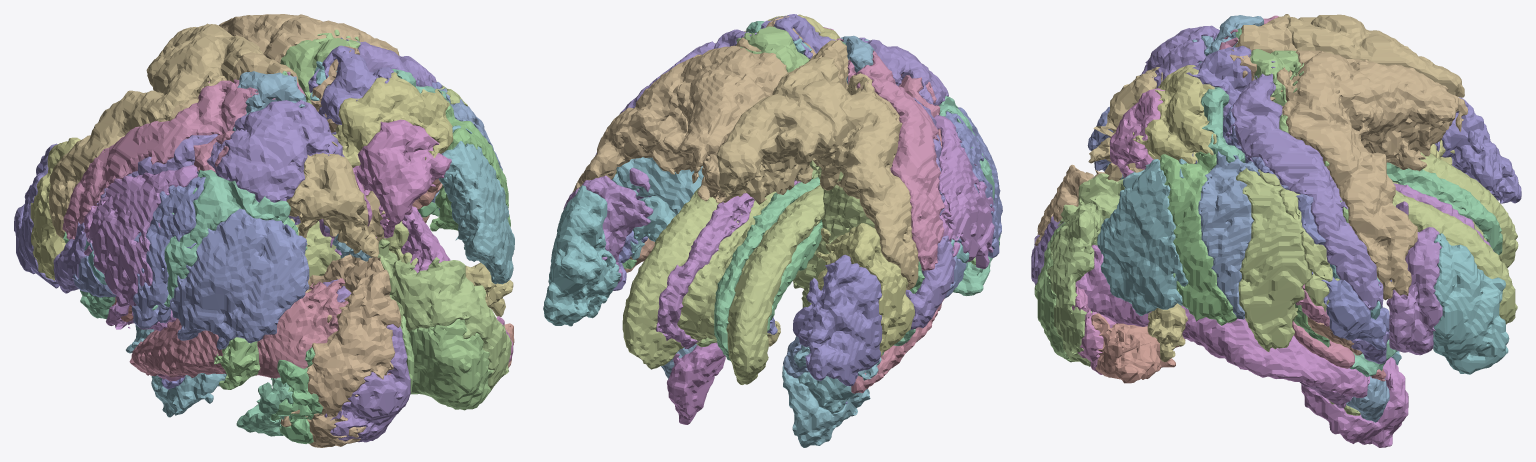
The model's file is juelich.glb.
The picture shows the model from 3 angles, left to right: view 1: azimuth 30°, elevation 25°; view 2: azimuth 150°, elevation 25°; view 3: azimuth 270°, elevation 25°; orthographic projection. The views are drawn at different scales.
Visible parts, largest first — view 1: GM Inferior parietal lobule PGp L, GM Visual cortex V2 BA18 L, GM Premotor cortex BA6 L, GM Superior parietal lobule 7A L, WM Optic radiation L, GM Primary somatosensory cortex BA1 L, GM Visual cortex V2 BA18 R, GM Inferior parietal lobule PF L, GM Inferior parietal lobule PGp R, GM Superior parietal lobule 7P R, GM Visual cortex V1 BA17 R, GM Superior parietal lobule 7A R (+29 smaller); view 2: GM Premotor cortex BA6 L, WM Callosal body, GM Premotor cortex BA6 R, GM Broca's area BA45 L, GM Broca's area BA45 R, GM Primary somatosensory cortex BA1 L, GM Inferior parietal lobule PF L, GM Broca's area BA44 L, WM Cingulum R, WM Cingulum L, GM Broca's area BA44 R, GM Hippocampus entorhinal cortex R (+20 smaller); view 3: GM Premotor cortex BA6 R, GM Primary somatosensory cortex BA1 R, GM Inferior parietal lobule PGp R, GM Inferior parietal lobule PF R, WM Optic radiation R, GM Broca's area BA45 R, GM Visual cortex V2 BA18 R, GM Inferior parietal lobule Pga R, WM Callosal body, GM Inferior parietal lobule PFm R, GM Premotor cortex BA6 L, GM Broca's area BA44 R (+30 smaller).
Part boxes in pixels (x1=…): GM Inferior parietal lobule PGp L: x1=170, y1=208, x2=309, y2=349; GM Visual cortex V2 BA18 L: x1=280, y1=253, x2=400, y2=447; GM Premotor cortex BA6 L: x1=49, y1=23, x2=263, y2=239; GM Superior parietal lobule 7A L: x1=207, y1=100, x2=344, y2=233; WM Optic radiation L: x1=129, y1=278, x2=390, y2=378; GM Primary somatosensory cortex BA1 L: x1=62, y1=79, x2=275, y2=239; GM Visual cortex V2 BA18 R: x1=377, y1=239, x2=511, y2=392; GM Inferior parietal lobule PF L: x1=87, y1=165, x2=197, y2=316; GM Inferior parietal lobule PGp R: x1=439, y1=125, x2=514, y2=284; GM Superior parietal lobule 7P R: x1=352, y1=119, x2=451, y2=238; GM Visual cortex V1 BA17 R: x1=400, y1=315, x2=493, y2=410; GM Superior parietal lobule 7A R: x1=329, y1=72, x2=453, y2=190; GM Premotor cortex BA6 L: x1=716, y1=57, x2=918, y2=289; WM Callosal body: x1=622, y1=184, x2=824, y2=384; GM Premotor cortex BA6 R: x1=572, y1=37, x2=787, y2=203; GM Broca's area BA45 L: x1=793, y1=254, x2=882, y2=386; GM Broca's area BA45 R: x1=543, y1=185, x2=621, y2=326; GM Primary somatosensory cortex BA1 L: x1=847, y1=50, x2=944, y2=270; GM Inferior parietal lobule PF L: x1=934, y1=115, x2=994, y2=269; GM Broca's area BA44 L: x1=816, y1=223, x2=914, y2=356; WM Cingulum R: x1=655, y1=179, x2=800, y2=348; WM Cingulum L: x1=714, y1=177, x2=820, y2=360; GM Broca's area BA44 R: x1=563, y1=167, x2=653, y2=283; GM Hippocampus entorhinal cortex R: x1=667, y1=342, x2=725, y2=424; GM Premotor cortex BA6 R: x1=1270, y1=50, x2=1467, y2=300; GM Primary somatosensory cortex BA1 R: x1=1226, y1=61, x2=1383, y2=310; GM Inferior parietal lobule PGp R: x1=1097, y1=158, x2=1188, y2=315; GM Inferior parietal lobule PF R: x1=1236, y1=167, x2=1311, y2=351; WM Optic radiation R: x1=1075, y1=244, x2=1370, y2=397; GM Broca's area BA45 R: x1=1433, y1=233, x2=1509, y2=374; GM Visual cortex V2 BA18 R: x1=1047, y1=173, x2=1124, y2=366; GM Inferior parietal lobule Pga R: x1=1160, y1=151, x2=1237, y2=325; WM Callosal body: x1=1392, y1=152, x2=1518, y2=324; GM Inferior parietal lobule PFm R: x1=1198, y1=151, x2=1259, y2=319; GM Premotor cortex BA6 L: x1=1277, y1=14, x2=1464, y2=112; GM Broca's area BA44 R: x1=1386, y1=201, x2=1442, y2=355.
Size of the model in its own units: 6.93 by 6.64 by 7.72.
